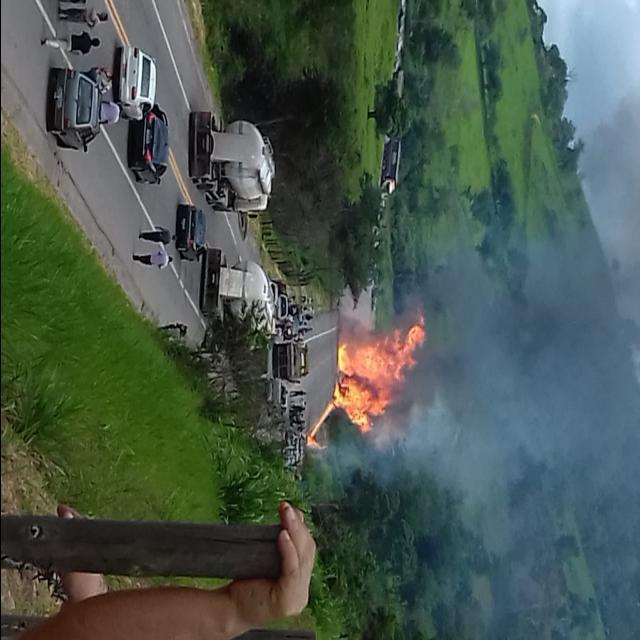Fire: (306, 315, 426, 449)
